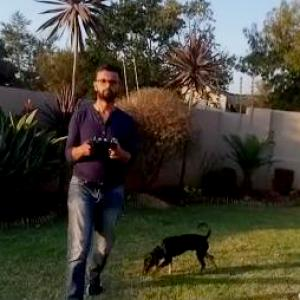follow: (64, 55, 139, 299)
null: (138, 220, 222, 280)
